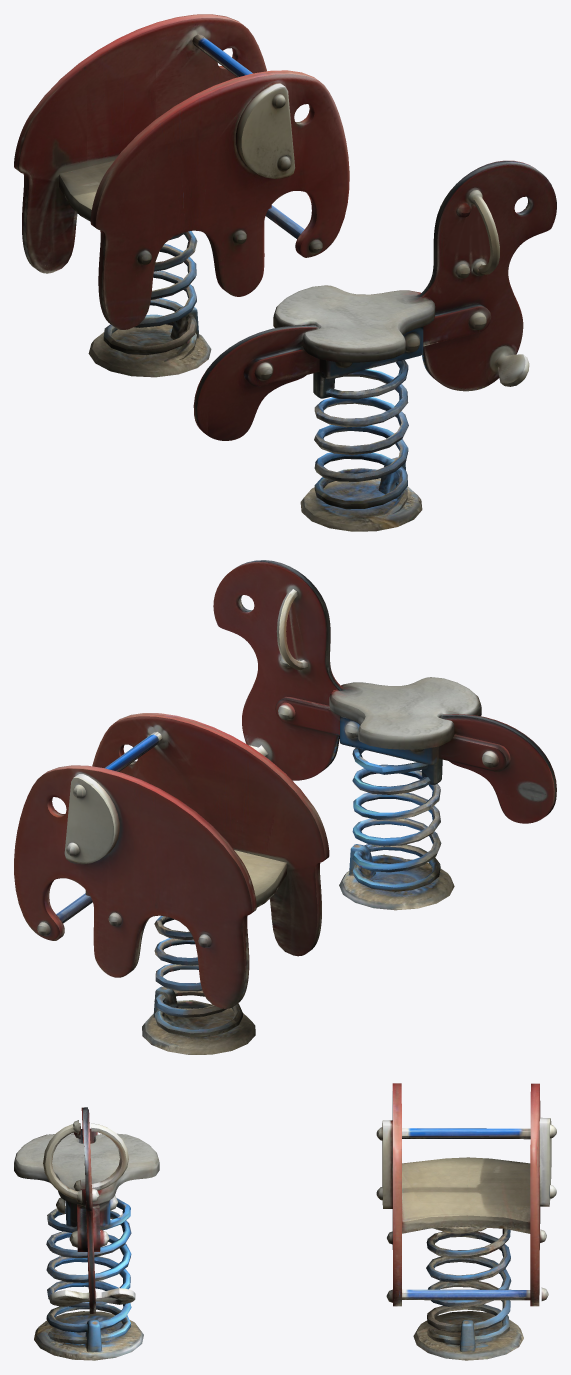
The model's file is ParkSpring.fbx.
3 renders of one model, top to bottom at view 1: azimuth 30°, elevation 25°; view 2: azimuth 150°, elevation 25°; view 3: azimuth 270°, elevation 25°, orthographic. The views are drawn at different scales.
Visible parts, largest first — view 1: Park_Spring_Elephant, Park_Spring_Horse; view 2: Park_Spring_Elephant, Park_Spring_Horse; view 3: Park_Spring_Elephant, Park_Spring_Horse.
Part boxes in pixels (<box>): Park_Spring_Elephant: <box>14,14,349,377</box>; Park_Spring_Horse: <box>193,160,556,531</box>; Park_Spring_Elephant: <box>14,713,329,1054</box>; Park_Spring_Horse: <box>213,560,556,910</box>; Park_Spring_Elephant: <box>376,1083,556,1360</box>; Park_Spring_Horse: <box>14,1107,159,1360</box>.
Bounding box in the file's own units: 461 × 379 × 667.
